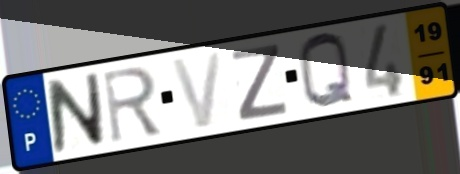4: (361, 20, 407, 100)
N: (44, 70, 107, 156)
Q: (295, 30, 357, 112)
R: (100, 63, 165, 146)
V: (168, 49, 226, 132)
Z: (229, 41, 290, 124)
